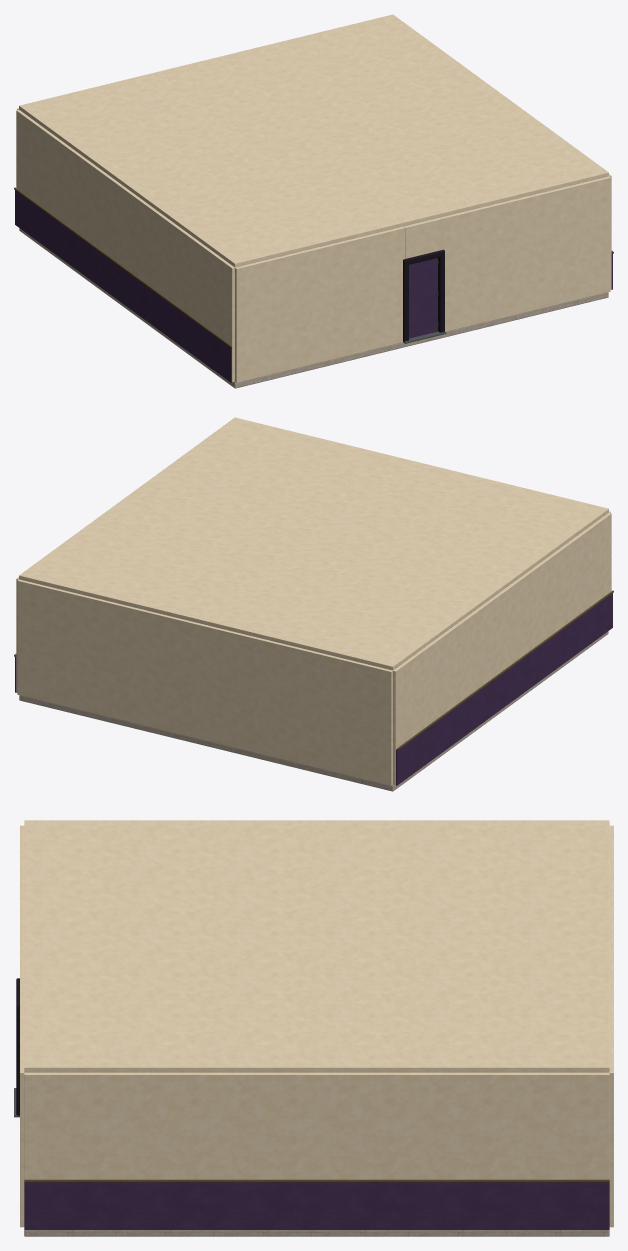
Rendered from explore3d__loading_gate.glb.
The picture shows the model from 3 angles, top to bottom: view 1: azimuth 30°, elevation 25°; view 2: azimuth 150°, elevation 25°; view 3: azimuth 270°, elevation 25°; orthographic projection. The views are drawn at different scales.
Visible parts, largest first — view 1: Runtime_local_loading_gate; view 2: Runtime_local_loading_gate; view 3: Runtime_local_loading_gate.
Boxes of the visible parts, x1,y1,x2,y2 form: Runtime_local_loading_gate: [14, 14, 613, 388]; Runtime_local_loading_gate: [14, 417, 613, 791]; Runtime_local_loading_gate: [14, 820, 613, 1236].
Bounding box in the file's own units: 12.32 × 3.84 × 12.3.
Materials: 11 (9 with a texture image).
